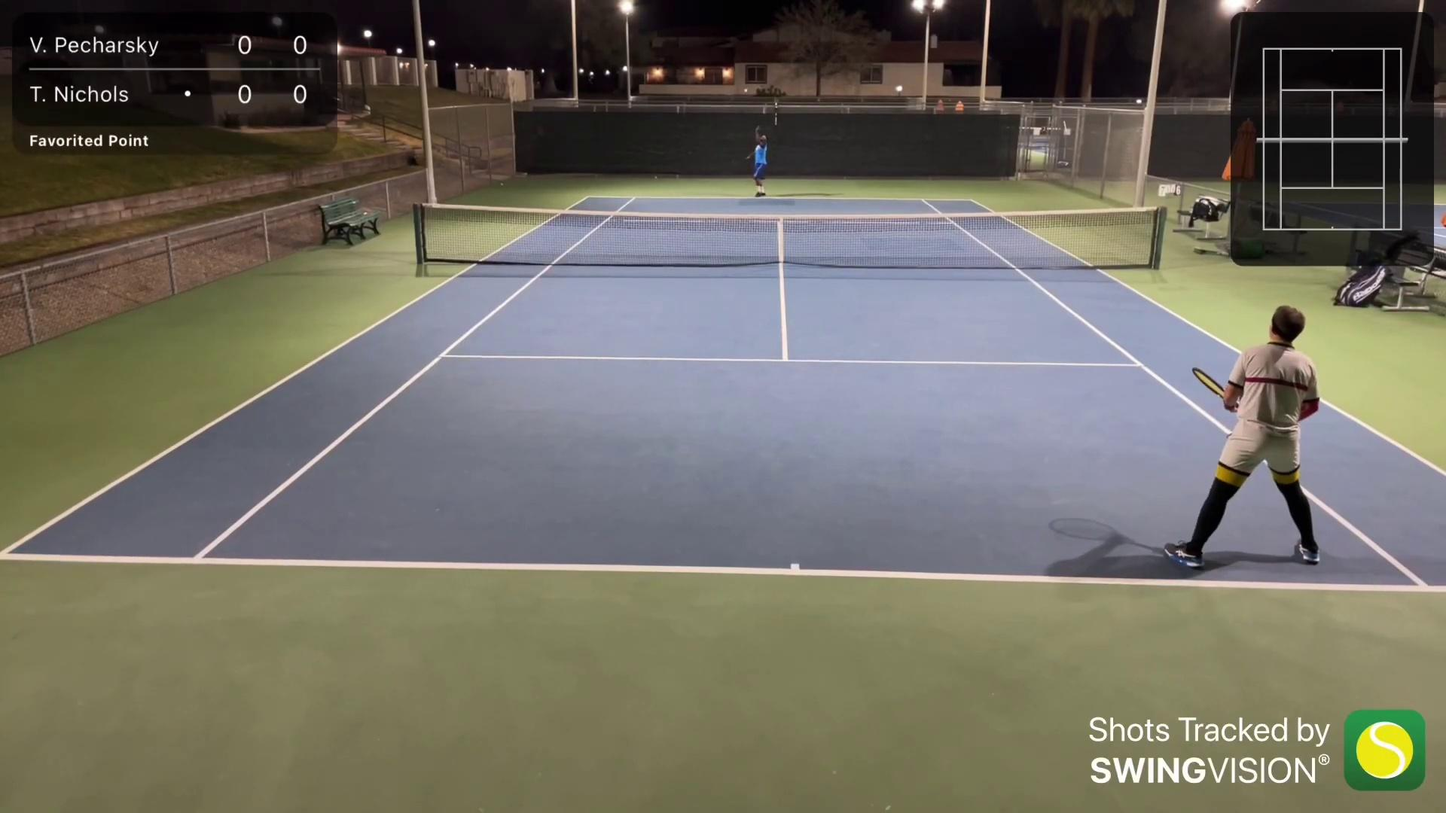ball: (761, 108, 772, 115), (406, 384, 411, 388)
